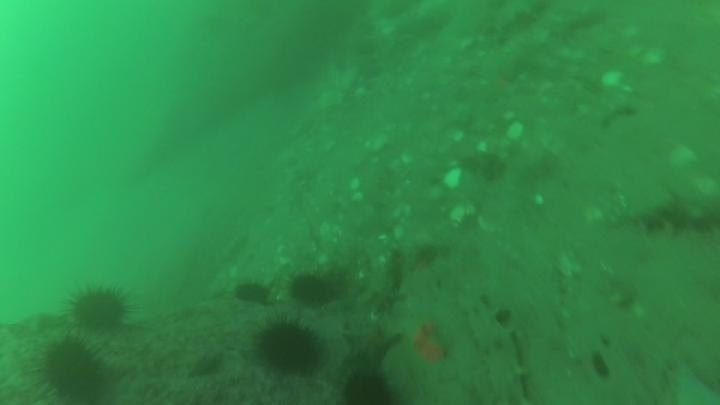echinus: (35, 334, 110, 404), (255, 318, 325, 378), (65, 281, 133, 335), (287, 270, 338, 309), (340, 369, 395, 404), (232, 278, 274, 308)
holothurian: (465, 301, 529, 405), (630, 181, 720, 238)
starfish: (342, 321, 400, 370), (663, 358, 719, 404)
